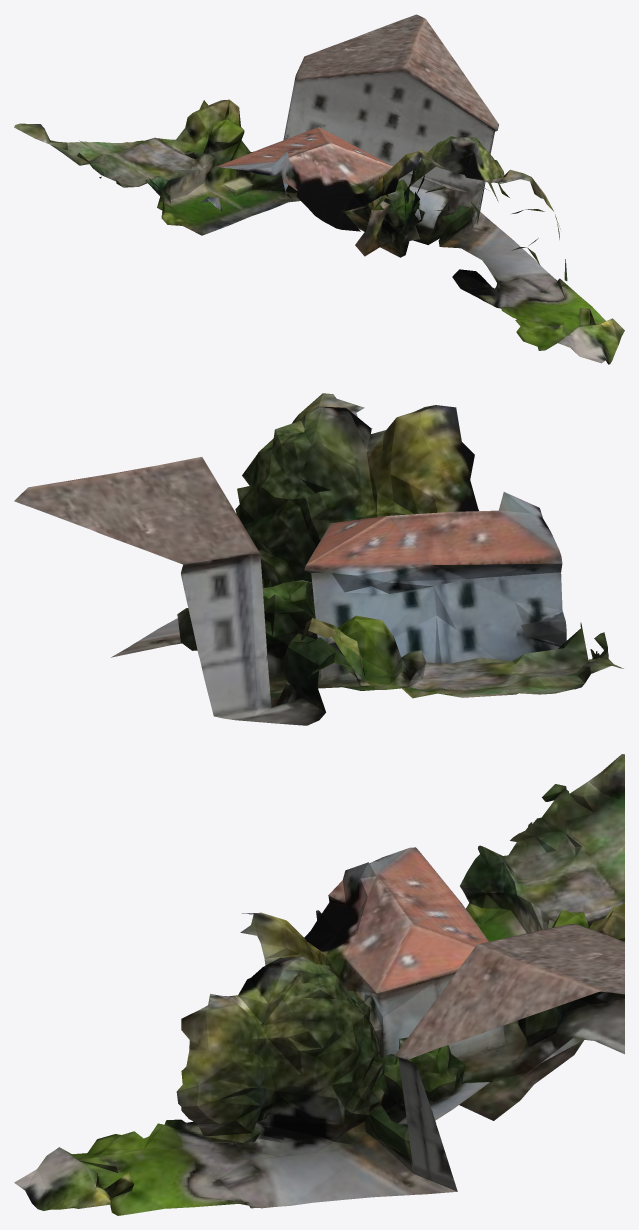
The picture shows the model from 3 angles, top to bottom: view 1: azimuth 30°, elevation 25°; view 2: azimuth 150°, elevation 25°; view 3: azimuth 270°, elevation 25°; orthographic projection. The views are drawn at different scales.
Bounding box in the file's own units: 44.9 × 19.49 × 44.87.
2 materials, 2 textured.
